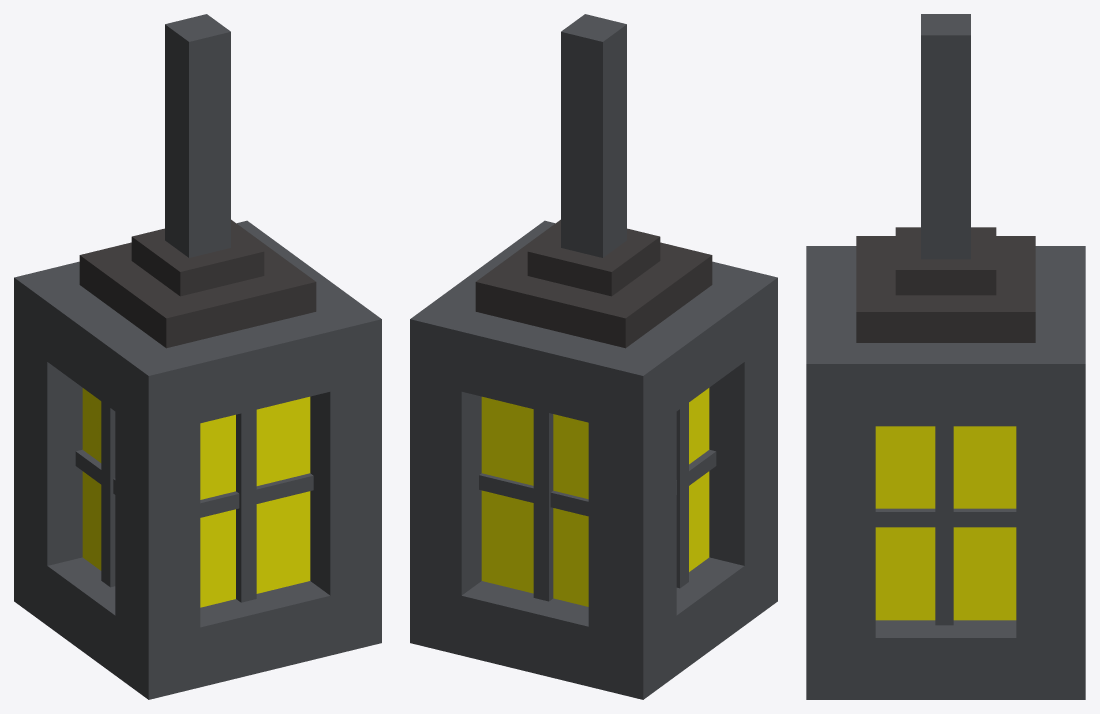
File: Linterna.fbx
The picture shows the model from 3 angles, left to right: view 1: azimuth 30°, elevation 25°; view 2: azimuth 150°, elevation 25°; view 3: azimuth 270°, elevation 25°; orthographic projection. The views are drawn at different scales.
Visible parts, largest first — view 1: Linterna; view 2: Linterna; view 3: Linterna.
Boxes of the visible parts, x1,y1,x2,y2 form: Linterna: [14, 14, 381, 699]; Linterna: [410, 14, 777, 699]; Linterna: [806, 14, 1085, 699].
Size of the model in its own units: 0.2 by 0.4871 by 0.2.
